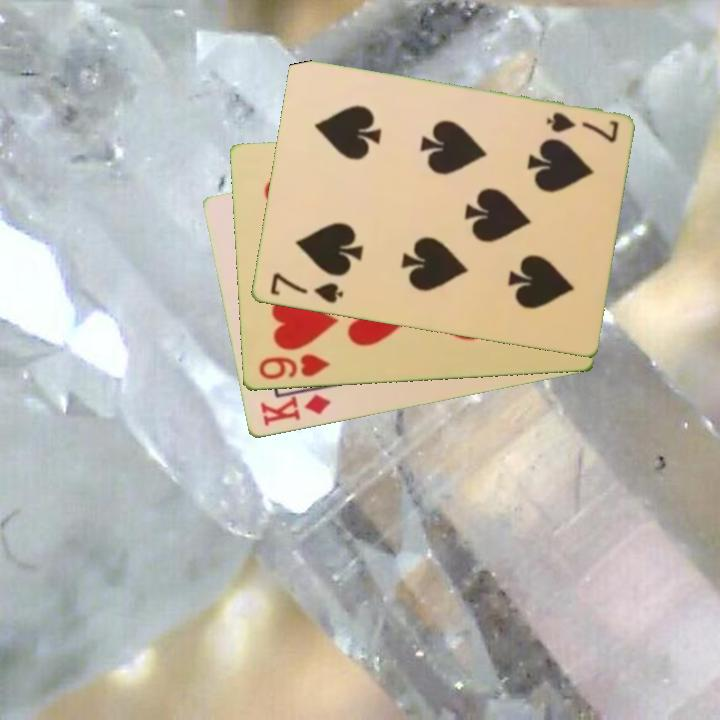7s: (266, 269, 346, 307), (542, 109, 621, 146)
9h: (255, 351, 333, 383)
Kd: (256, 391, 334, 430)
